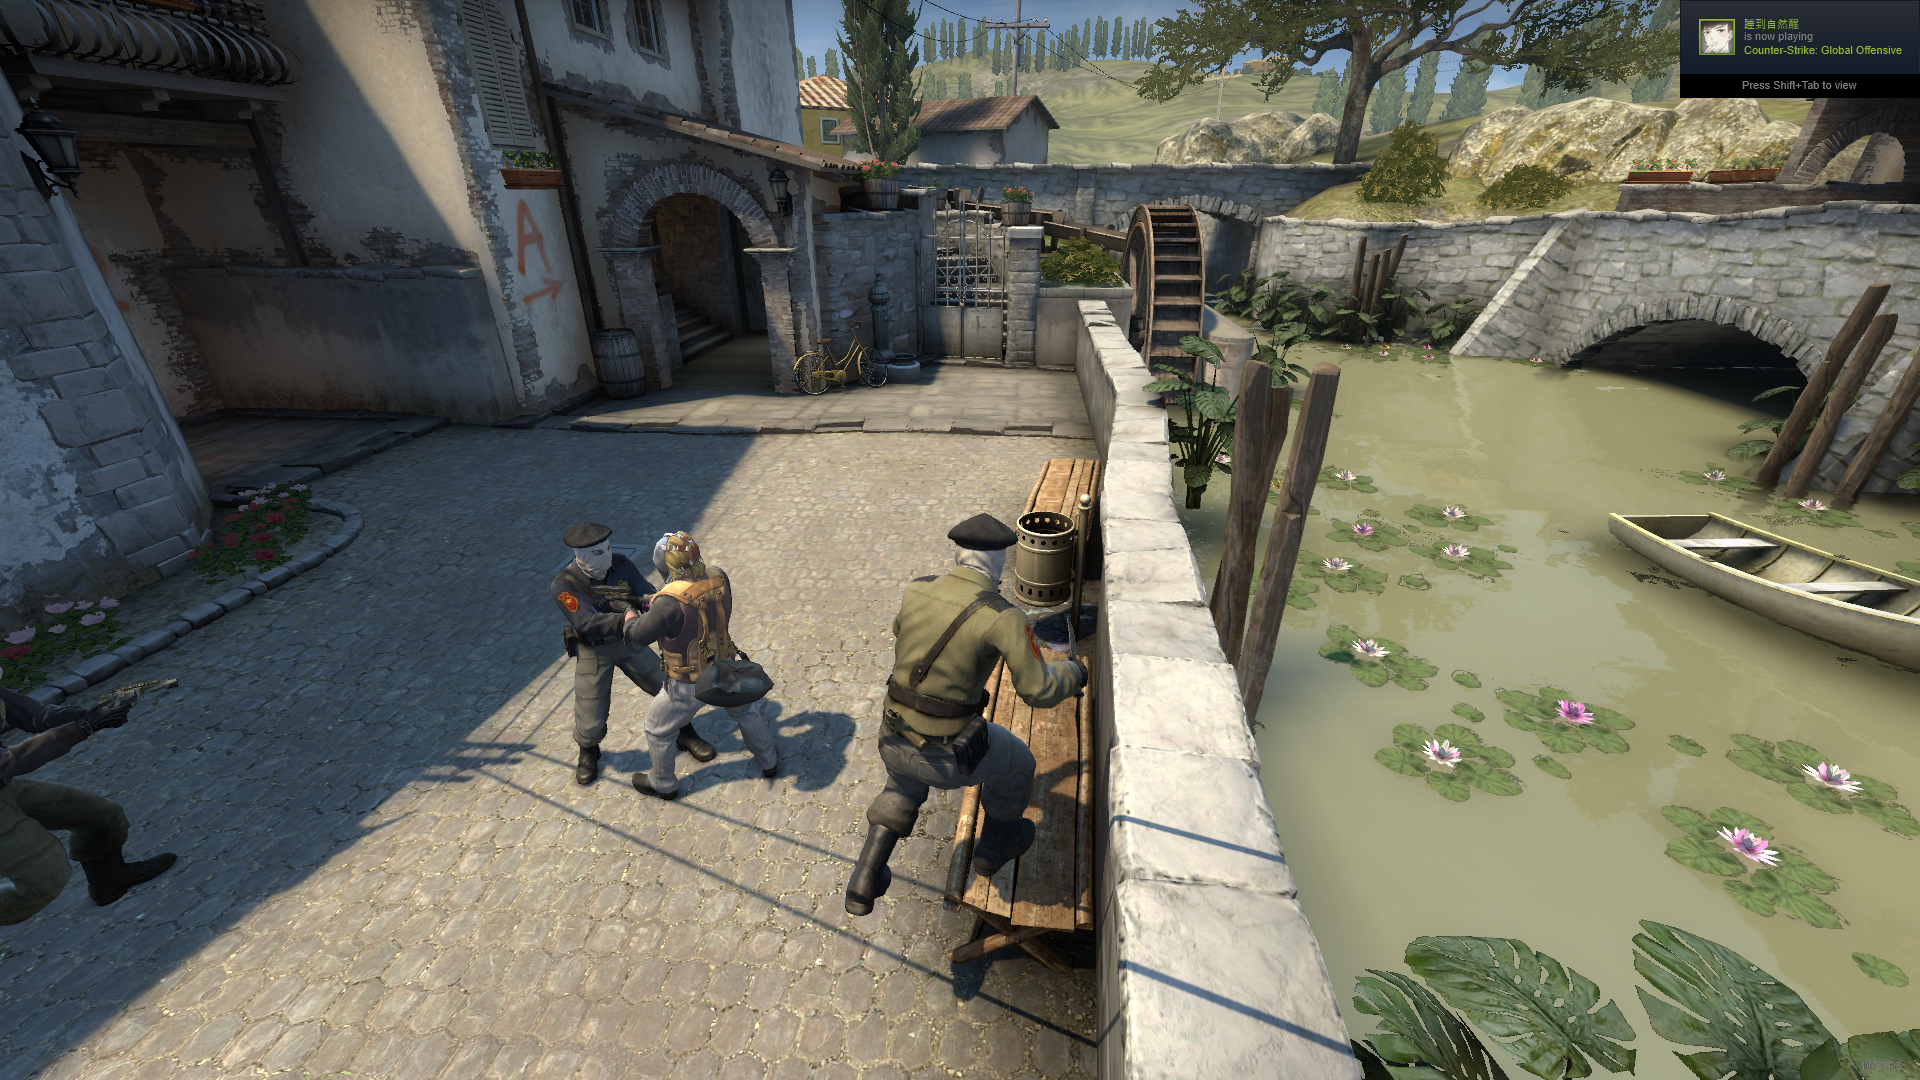t: (847, 510, 1088, 915), (551, 522, 715, 796), (1, 682, 179, 928)
